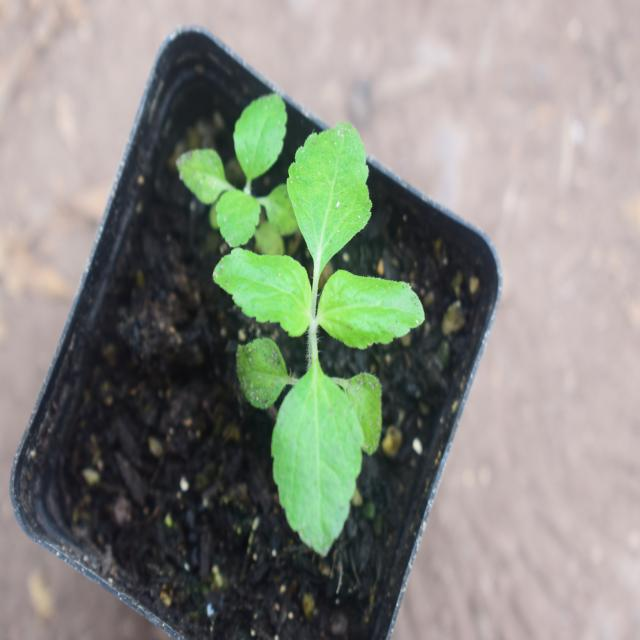billygoat_weed: (223, 117, 420, 517)
